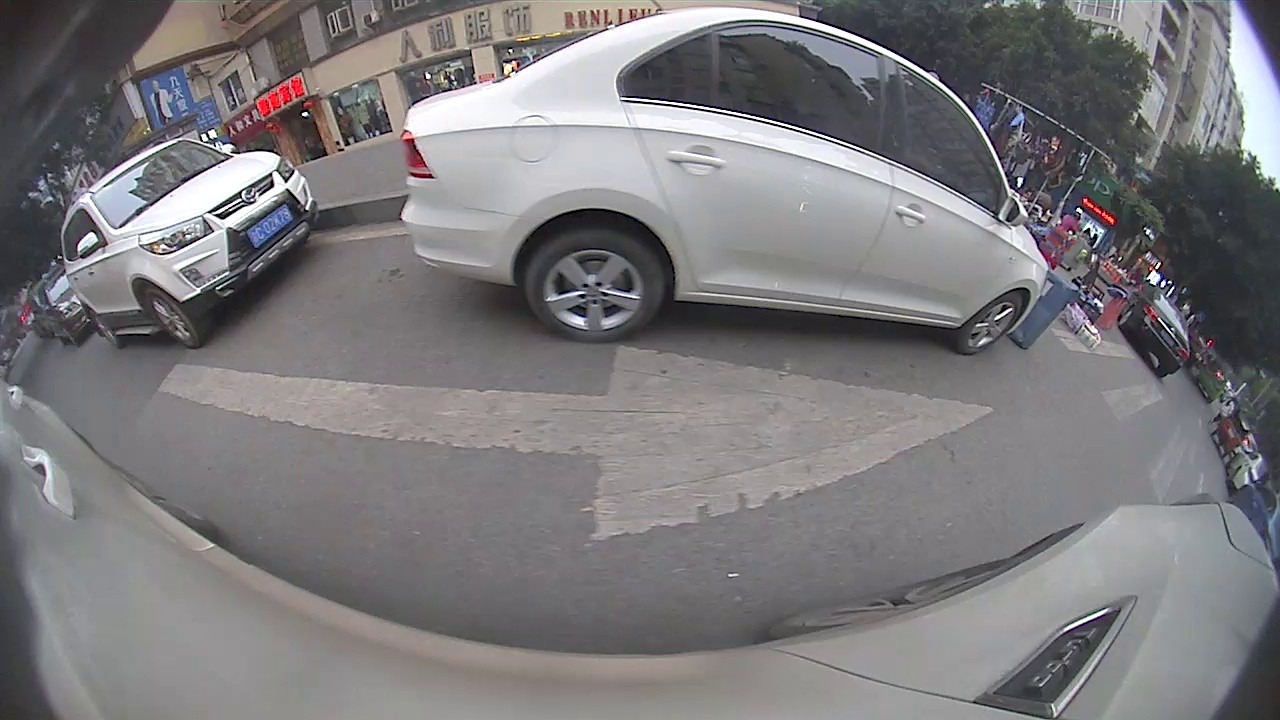car: (398, 7, 1052, 356), (60, 137, 319, 350), (1118, 283, 1193, 378), (34, 260, 92, 348)
front: (957, 292, 1028, 355), (138, 284, 202, 350)
rear: (523, 223, 668, 341), (88, 309, 123, 353)
